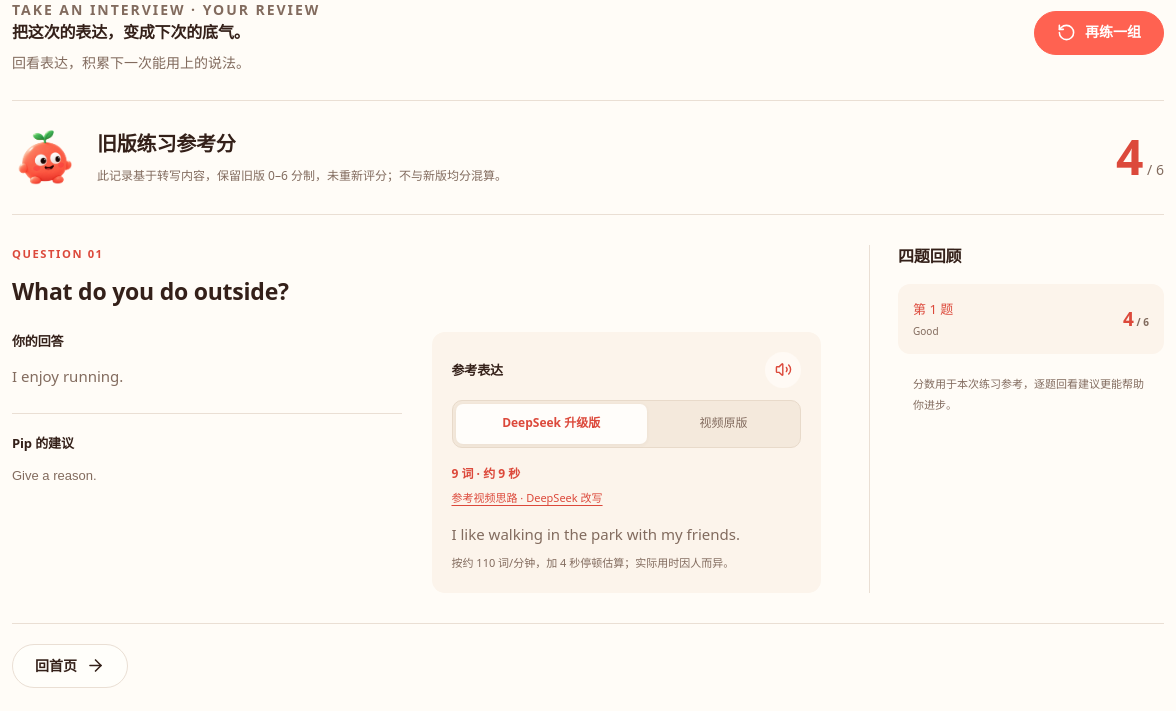
Test: loads the original only after selection at the timestamp in https://www.youtube.com/watch?v=abcdefghijk&t=305
This screenshot has width=1176, height=711.
Step 1. Click the button "视频原版" → x=723, y=424, box x1=650 y1=404 x2=797 y2=444
(page scrolled)
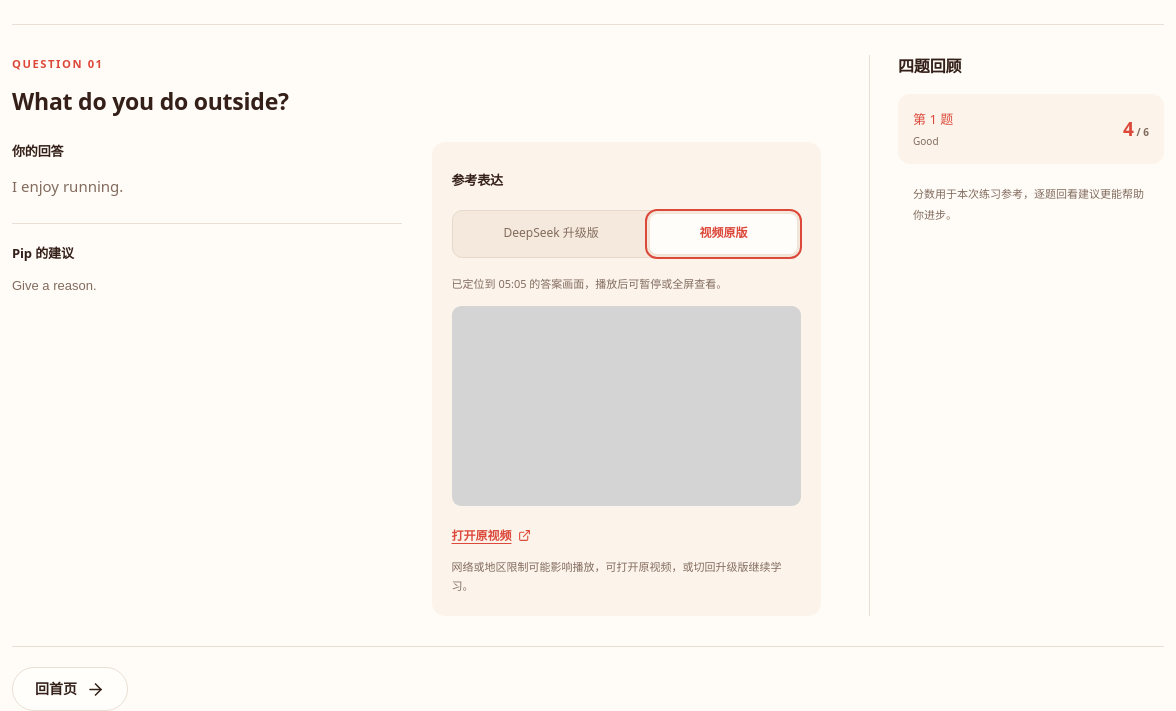
Now the text "I like walking in the park with my friends." is gone
Now the text "词 · 约" is gone
Now the button "朗读范例" is gone
